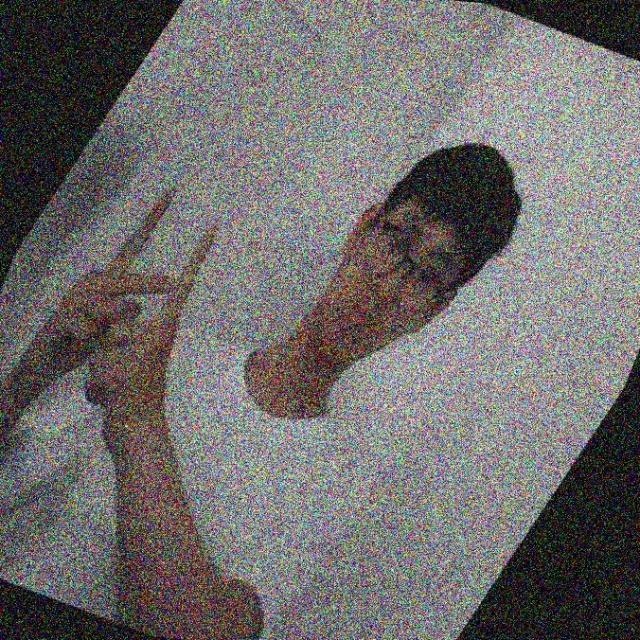H: (33, 173, 232, 416)
